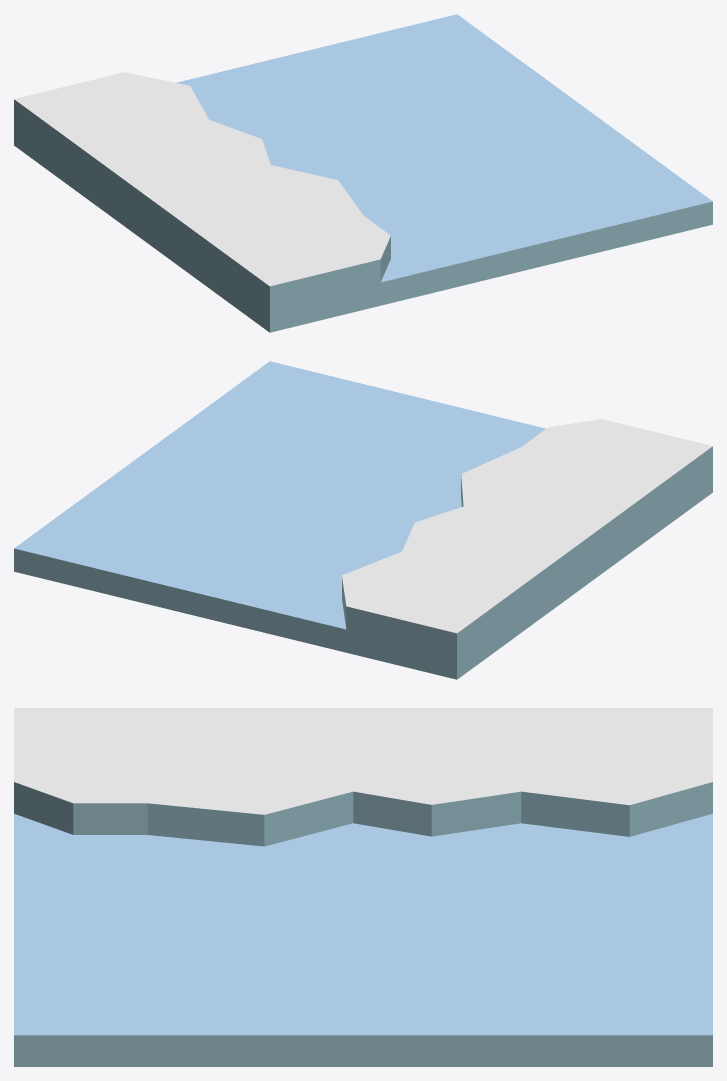
The model's file is Terrain_Modular_Tiles_Snow_Ice_Water_Edge_Straight_02.fbx.
3 views of the same model, one above another, from view 1: azimuth 30°, elevation 25°; view 2: azimuth 150°, elevation 25°; view 3: azimuth 270°, elevation 25° (orthographic). The views are drawn at different scales.
Visible parts, largest first — view 1: Terrain_Modular_Tiles_Snow_Ice_Water_Edge_Straight_02; view 2: Terrain_Modular_Tiles_Snow_Ice_Water_Edge_Straight_02; view 3: Terrain_Modular_Tiles_Snow_Ice_Water_Edge_Straight_02.
Boxes of the visible parts, x1,y1,x2,y2 form: Terrain_Modular_Tiles_Snow_Ice_Water_Edge_Straight_02: (14,14,712,332); Terrain_Modular_Tiles_Snow_Ice_Water_Edge_Straight_02: (14,361,712,679); Terrain_Modular_Tiles_Snow_Ice_Water_Edge_Straight_02: (14,708,712,1066).
Bounding box in the file's own units: 118 × 11.81 × 118.
